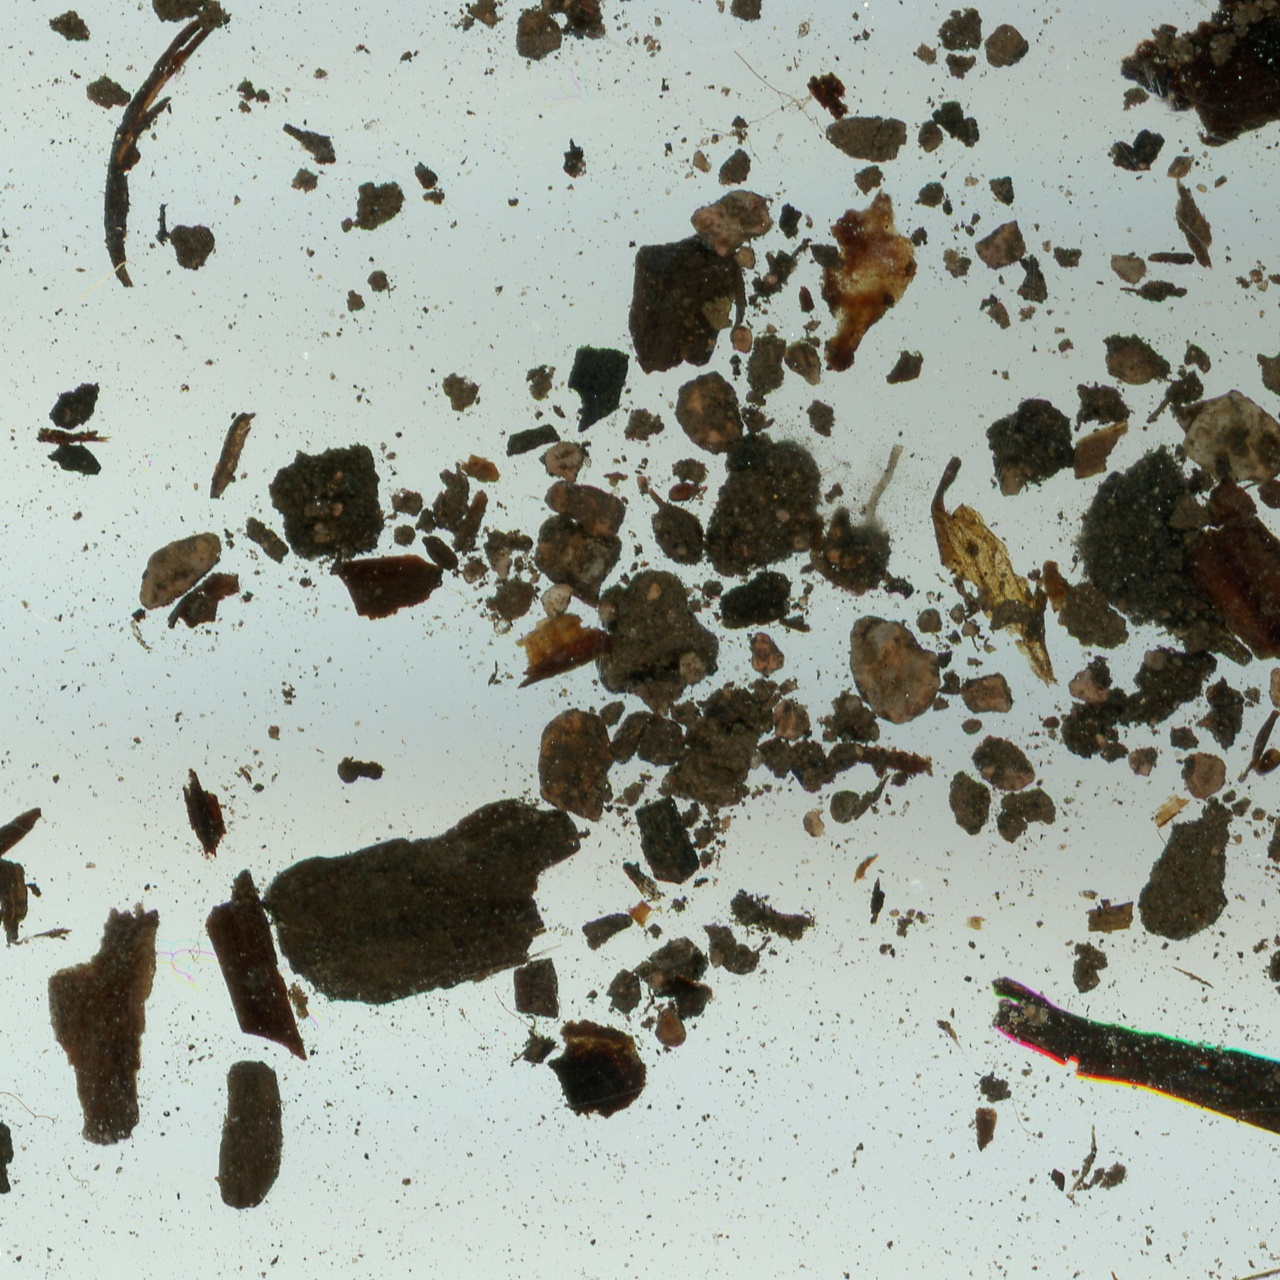arthropod: (663, 479, 708, 511)
